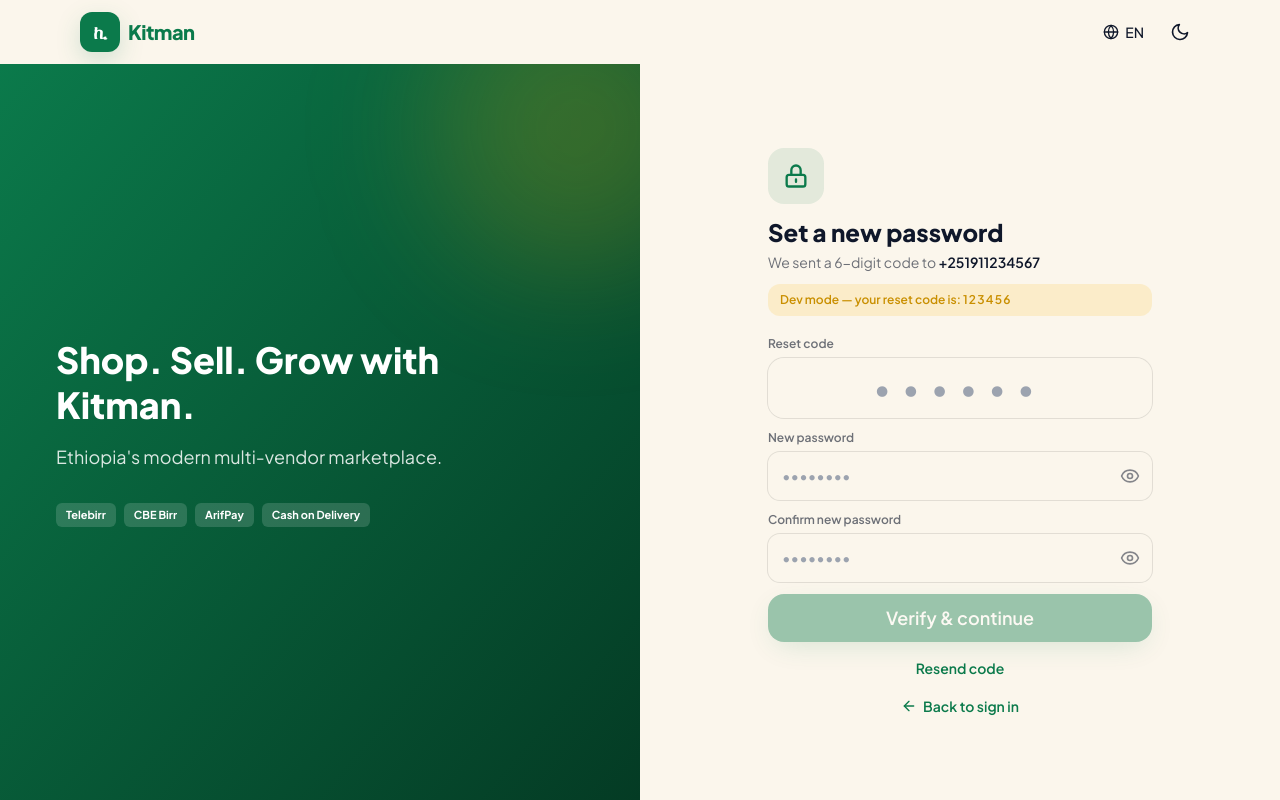
Test: ResetPassword › shows INVALID_RESET_CODE errors from the API
Type "111111" into the field with placeholder "••••••" at (960, 388), box [768,358,1152,418]
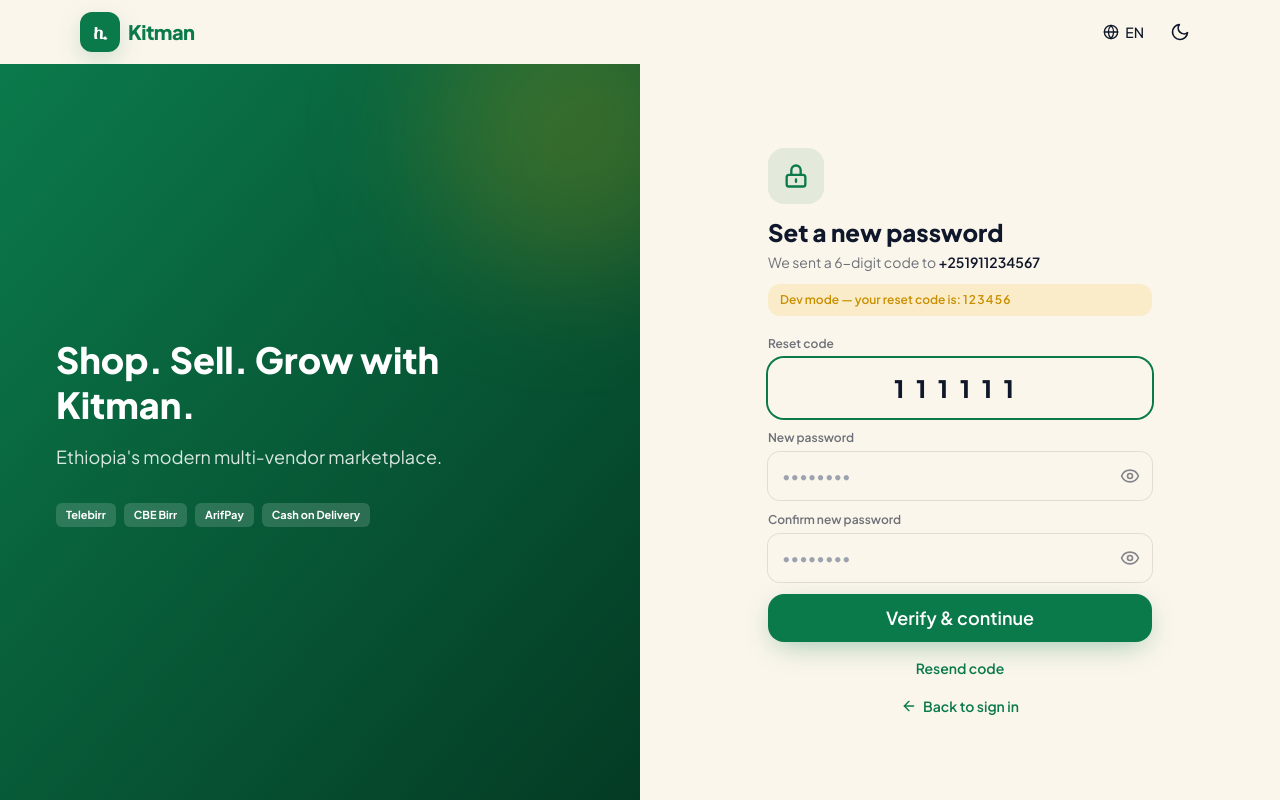
Type "longenough1" into the password field labelled "New password" at (938, 476), box [768,452,1108,500]
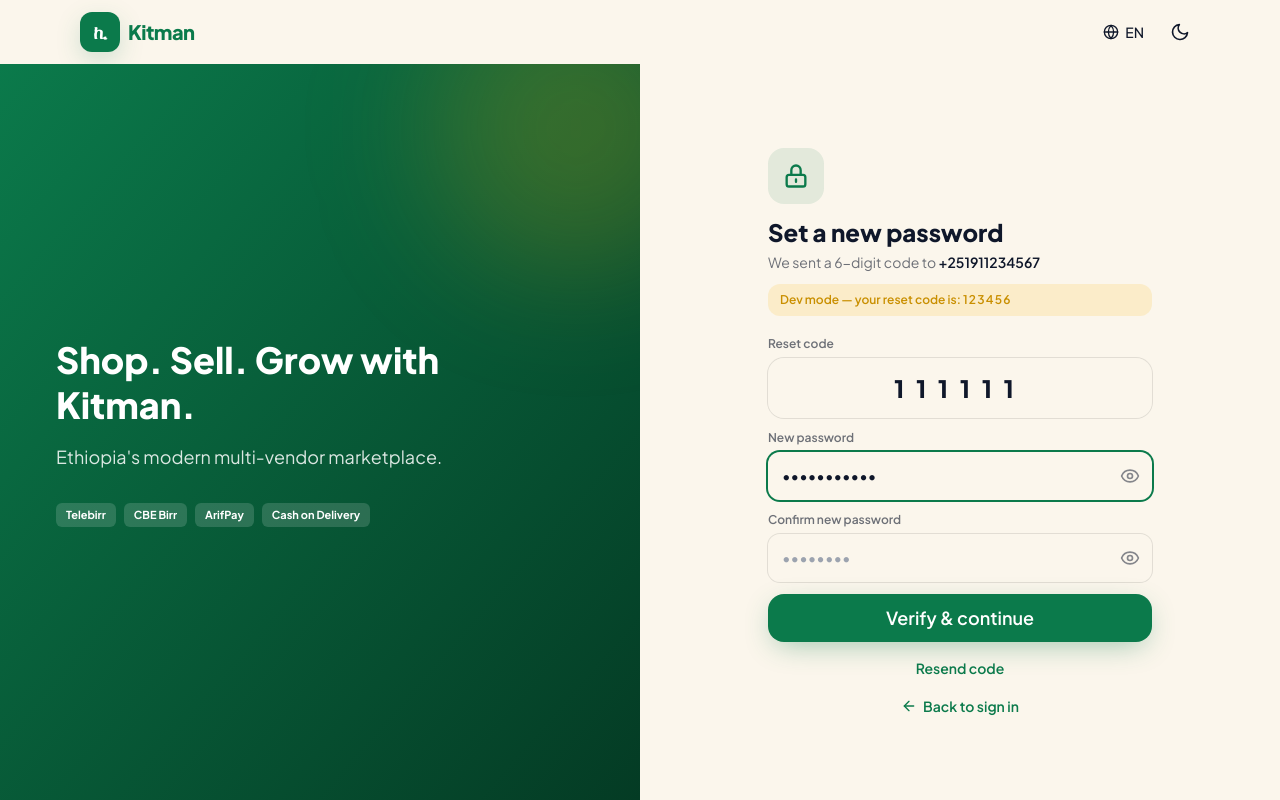
Type "longenough1" into the password field labelled "Confirm new password" at (938, 558), box [768,534,1108,582]
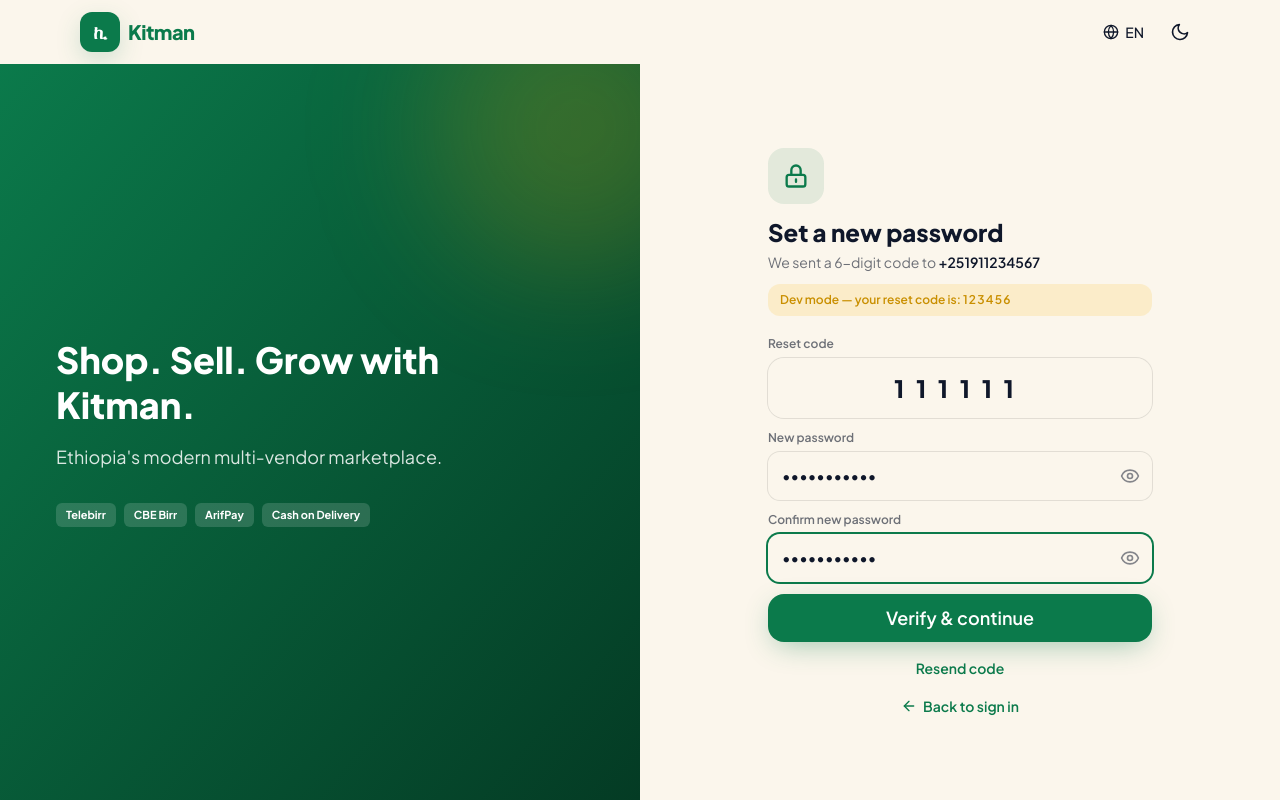
Click the button "Verify & continue" at (960, 618), box [768,594,1152,642]
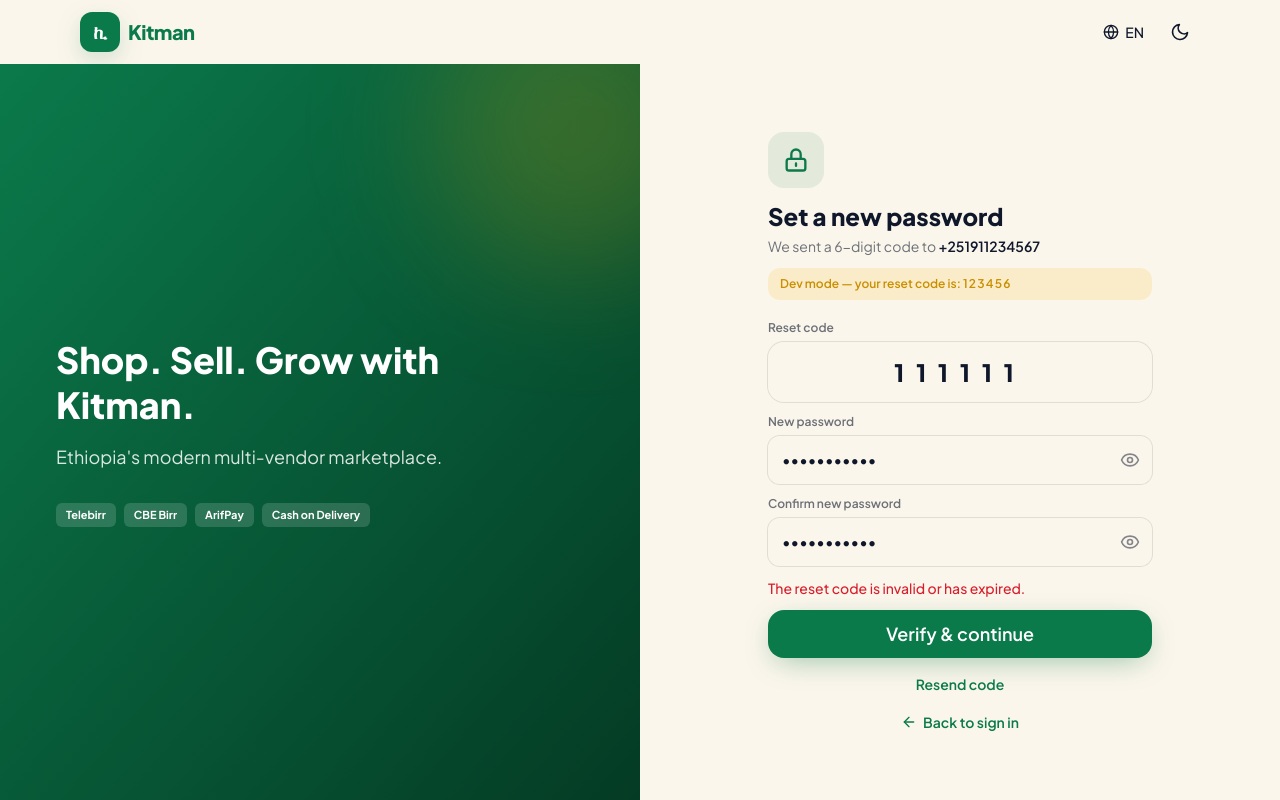
Check: the text "The reset code is invalid or has expired." is shown, box [768,579,1025,597]
